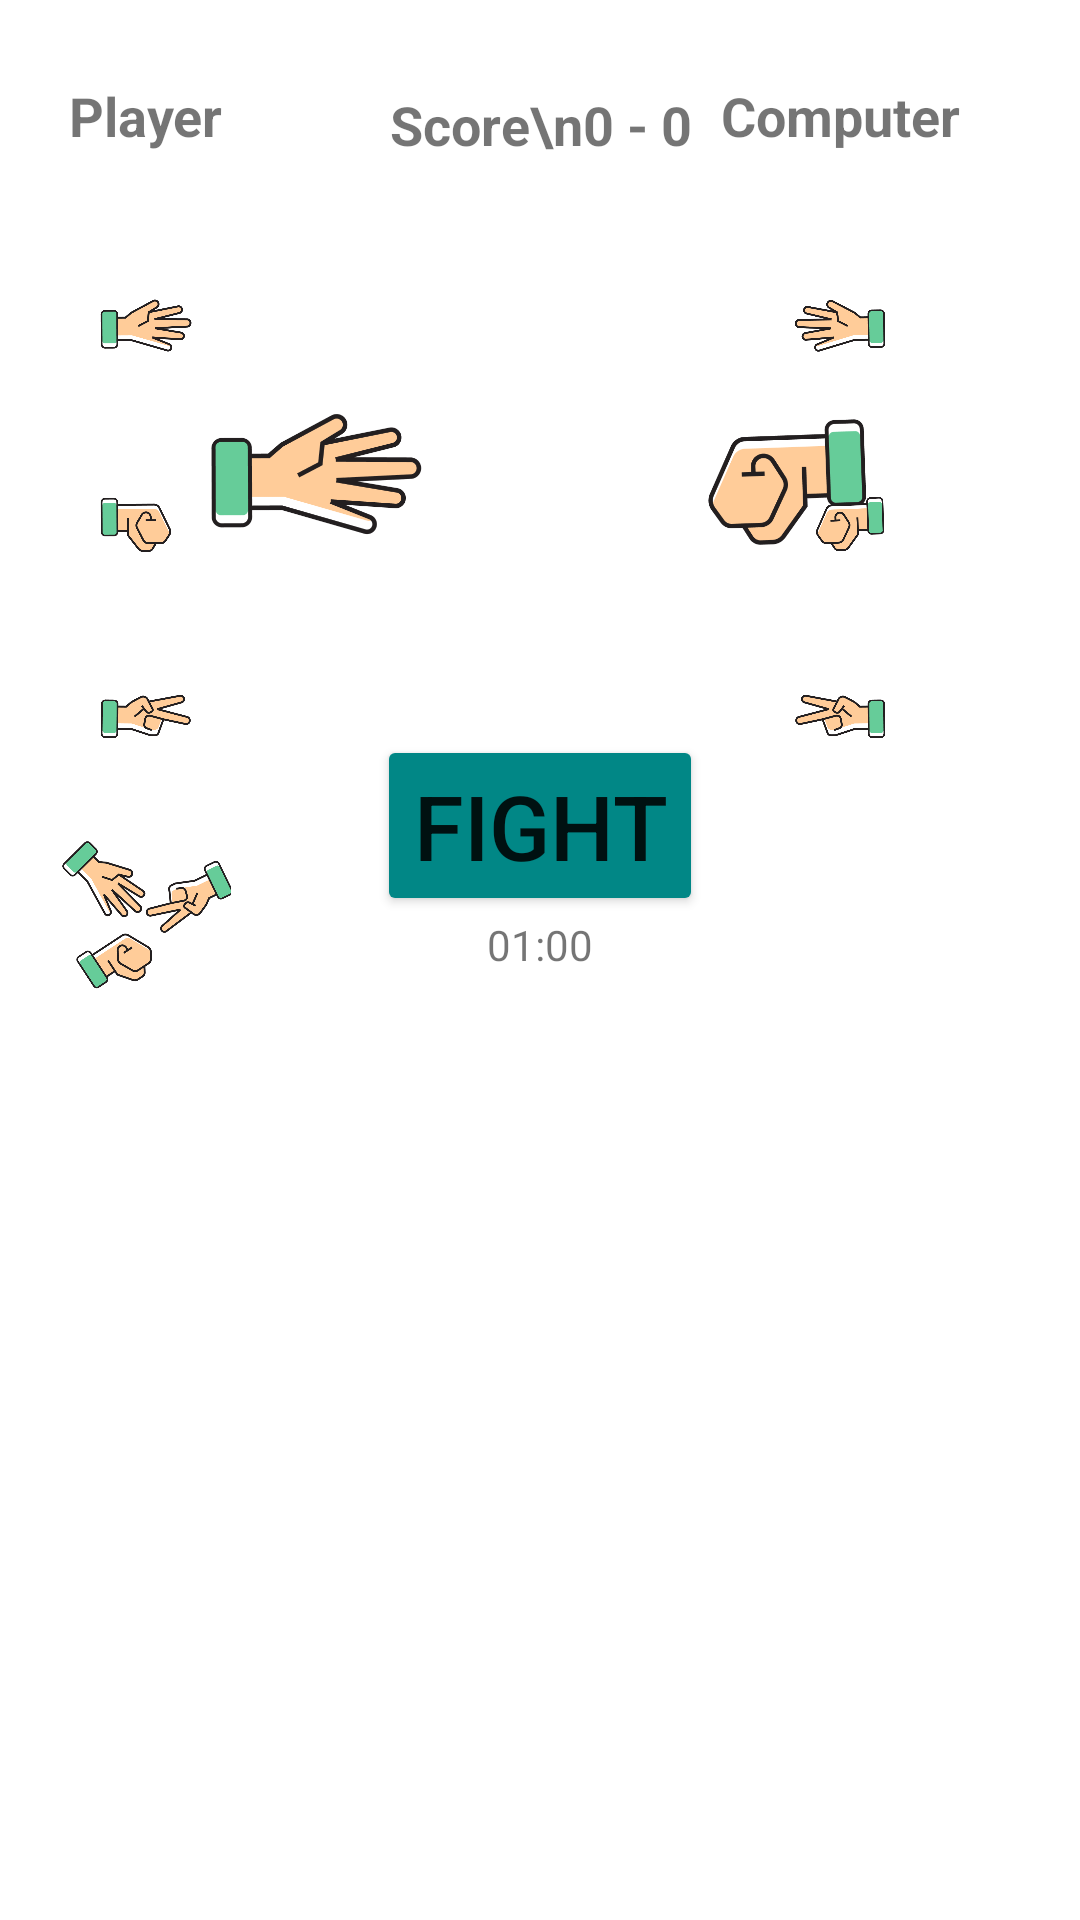

Screen size 1080px×1920px. Icon name, then its center in pixels as [x,y]:
random: [146,915]
scissor left: [146,716]
scissor right: [840,716]
